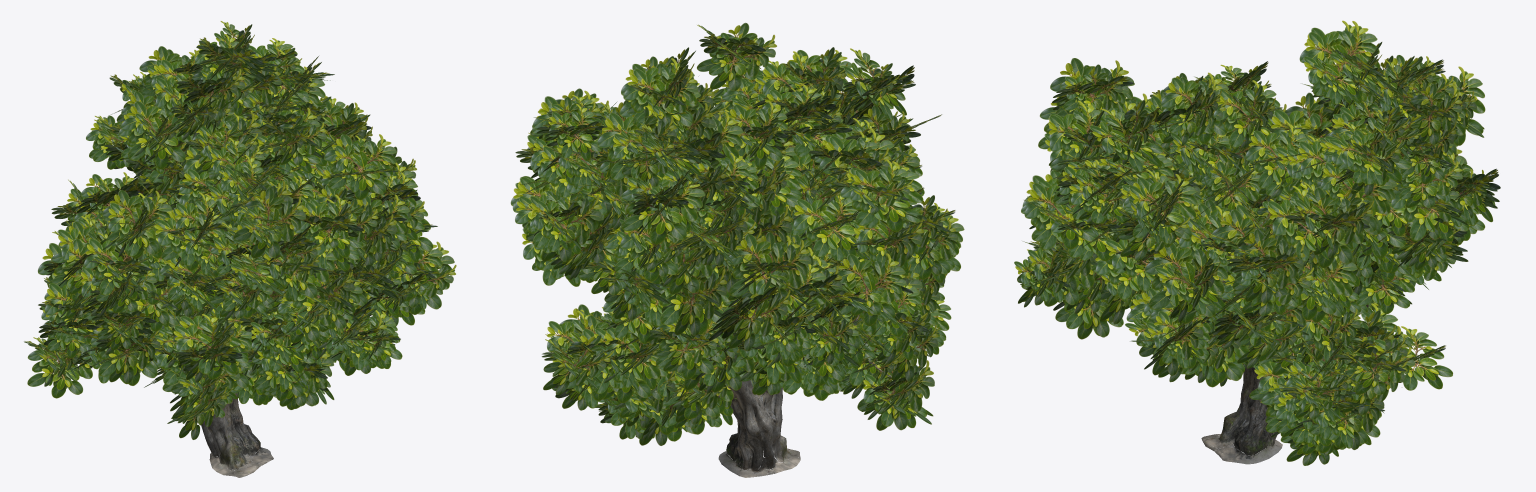
Rendered from island_tree_01.glb.
The picture shows the model from 3 angles, left to right: view 1: azimuth 30°, elevation 25°; view 2: azimuth 150°, elevation 25°; view 3: azimuth 270°, elevation 25°; orthographic projection. The views are drawn at different scales.
Visible parts, largest first — view 1: LeafCards, island_tree_01_LOD0; view 2: LeafCards, island_tree_01_LOD0; view 3: LeafCards, island_tree_01_LOD0.
Part boxes in pixels (box(x1,y1,x2,y2)): LeafCards: box(24, 21, 456, 439); island_tree_01_LOD0: box(64, 137, 388, 477); LeafCards: box(510, 22, 964, 445); island_tree_01_LOD0: box(571, 56, 920, 477); LeafCards: box(1014, 20, 1500, 465); island_tree_01_LOD0: box(1055, 87, 1412, 464).
Size of the model in its own units: 5.74 by 5.35 by 5.77.
3 materials, 3 textured.
